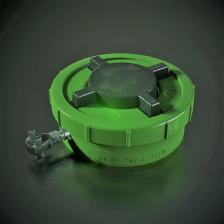PMN2: (10, 55, 199, 176)
